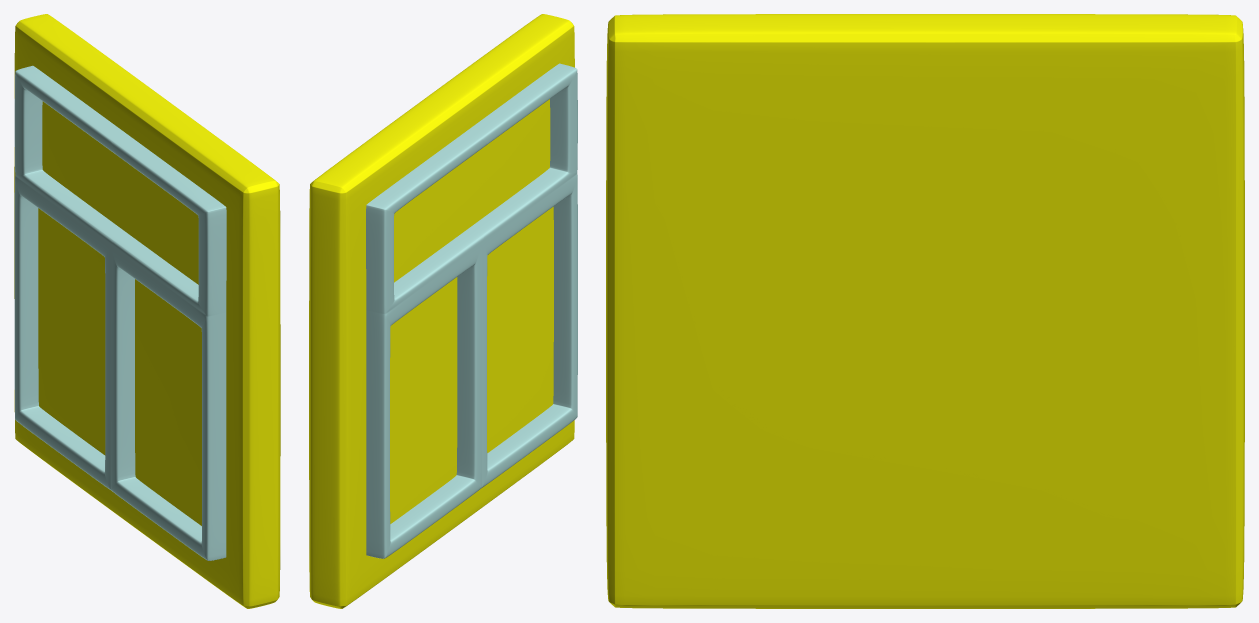
3 renders of one model, left to right at view 1: azimuth 30°, elevation 25°; view 2: azimuth 150°, elevation 25°; view 3: azimuth 270°, elevation 25°, orthographic. The views are drawn at different scales.
Visible parts, largest first — view 1: polySurface1294; view 2: polySurface1294; view 3: polySurface1294.
Boxes of the visible parts, x1,y1,x2,y2 form: polySurface1294: (14, 14, 280, 608); polySurface1294: (309, 14, 577, 608); polySurface1294: (606, 14, 1244, 608).
Bounding box in the file's own units: 0.1445 × 0.9995 × 0.9995.
